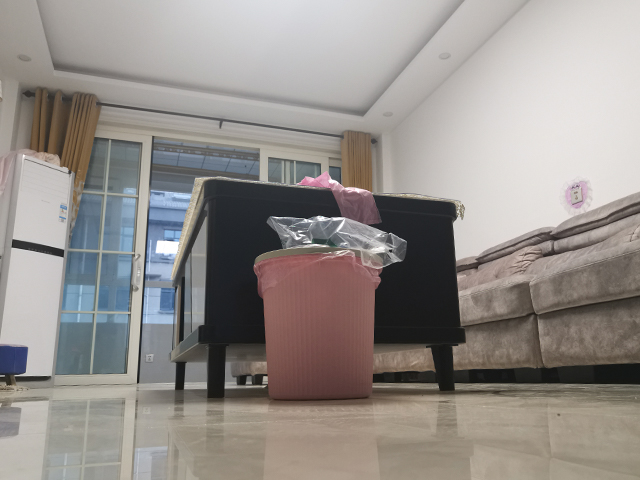sofa: (454, 190, 639, 387)
stool: (1, 344, 30, 386)
table: (166, 171, 468, 400)
trashcan: (249, 245, 384, 405)
